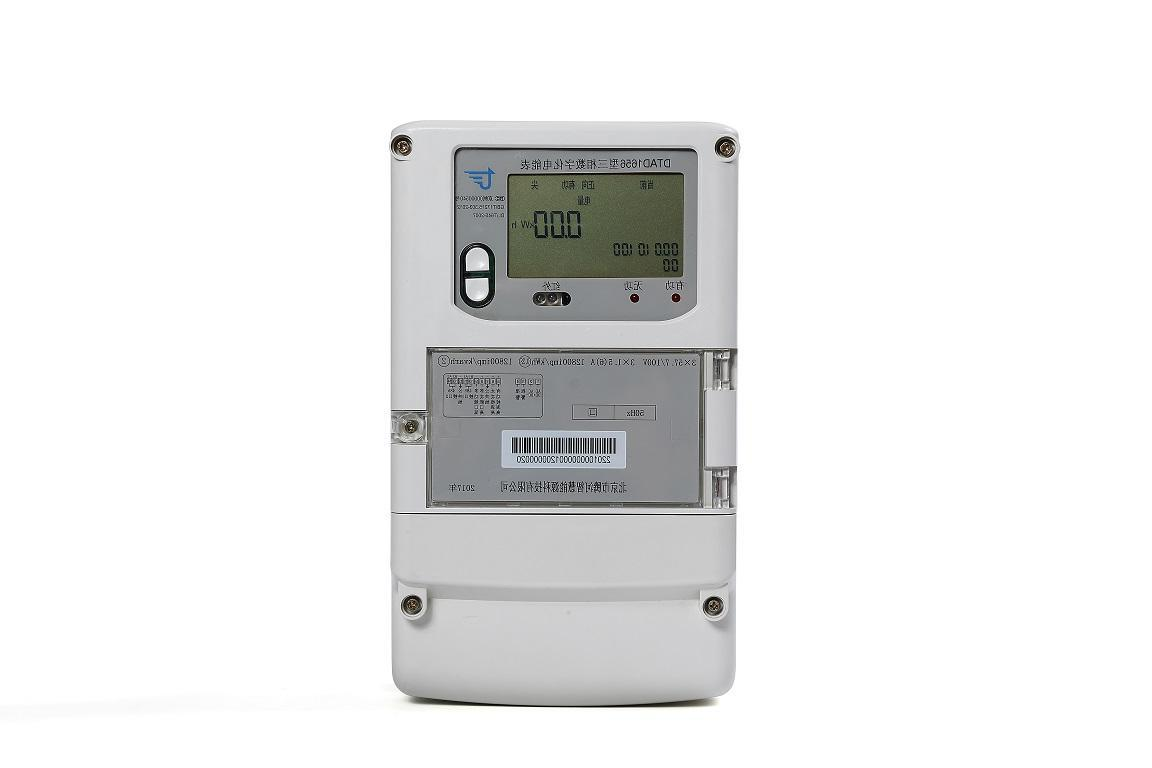digital: (392, 121, 736, 703)
